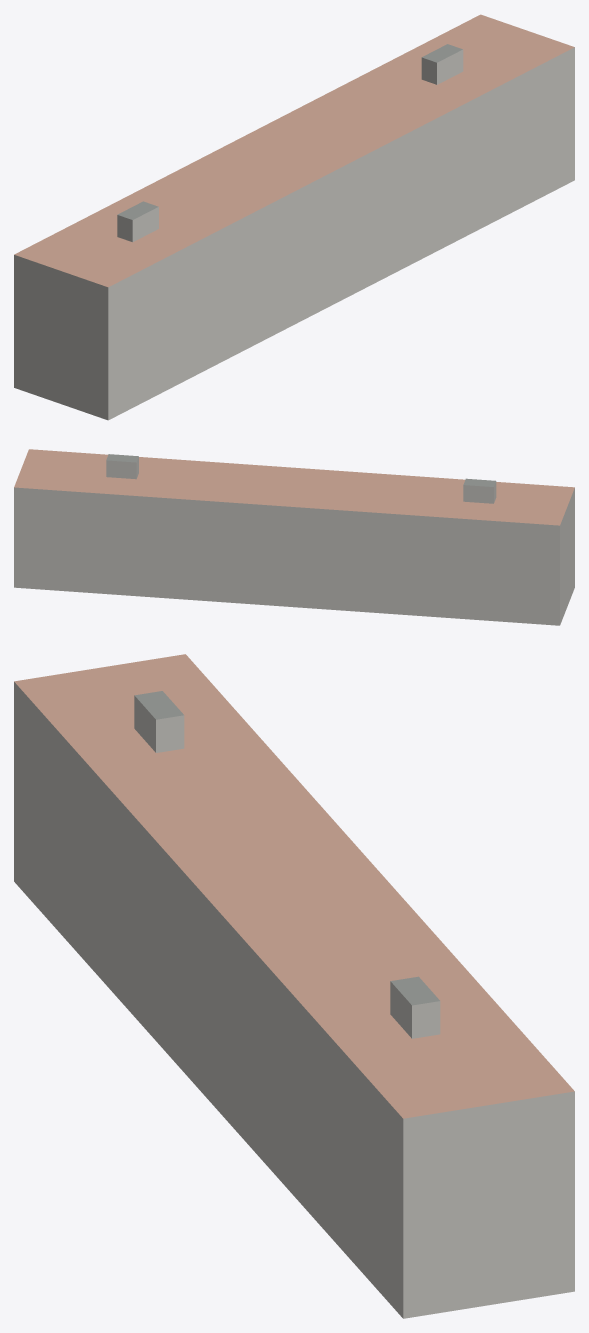
File: gridID_84.dae
The picture shows the model from 3 angles, top to bottom: view 1: azimuth 30°, elevation 25°; view 2: azimuth 150°, elevation 25°; view 3: azimuth 270°, elevation 25°; orthographic projection. The views are drawn at different scales.
Parts seen in each view (by area): view 1: model_gridID_84_w116940046; view 2: model_gridID_84_w116940046; view 3: model_gridID_84_w116940046.
Part boxes in pixels (x1=…): model_gridID_84_w116940046: x1=14, y1=14, x2=574, y2=420; model_gridID_84_w116940046: x1=14, y1=449, x2=574, y2=625; model_gridID_84_w116940046: x1=14, y1=654, x2=574, y2=1318.
Size of the model in its own units: 74.68 by 38.1 by 17.5.
